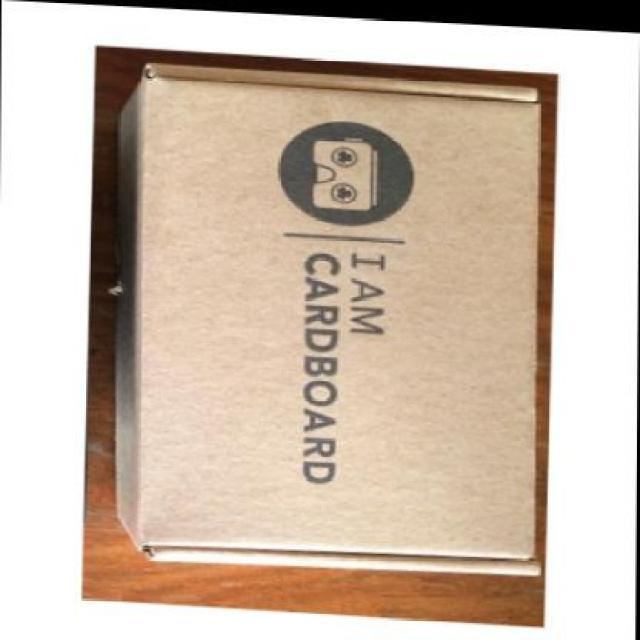box: (123, 68, 541, 568)
